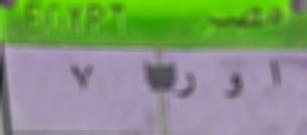7: (68, 58, 97, 98)
alif: (263, 57, 287, 97)
raa: (171, 66, 200, 105)
waw: (220, 67, 245, 103)
